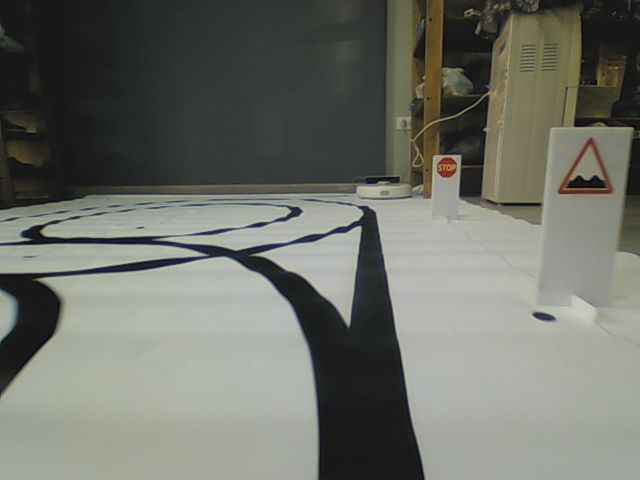Stop: (436, 156, 459, 179)
